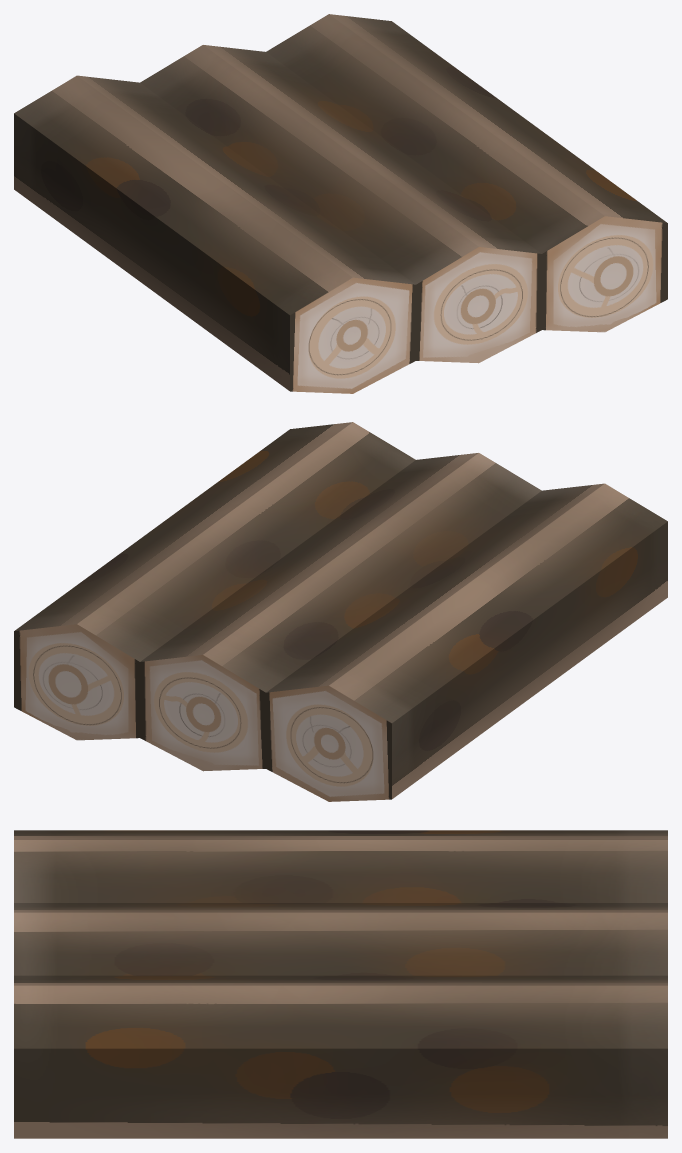
Rendered from maruta.fbx.
3 views of the same model, one above another, from view 1: azimuth 30°, elevation 25°; view 2: azimuth 150°, elevation 25°; view 3: azimuth 270°, elevation 25° (orthographic). The views are drawn at different scales.
Parts seen in each view (by area): view 1: pCylinder4; view 2: pCylinder4; view 3: pCylinder4.
Boxes of the visible parts, bbox=[...] form: pCylinder4: bbox=[14, 14, 667, 393]; pCylinder4: bbox=[14, 422, 667, 801]; pCylinder4: bbox=[14, 830, 667, 1138].
Size of the model in its own units: 5.2 by 1.53 by 6.57.
1 material, 1 textured.
